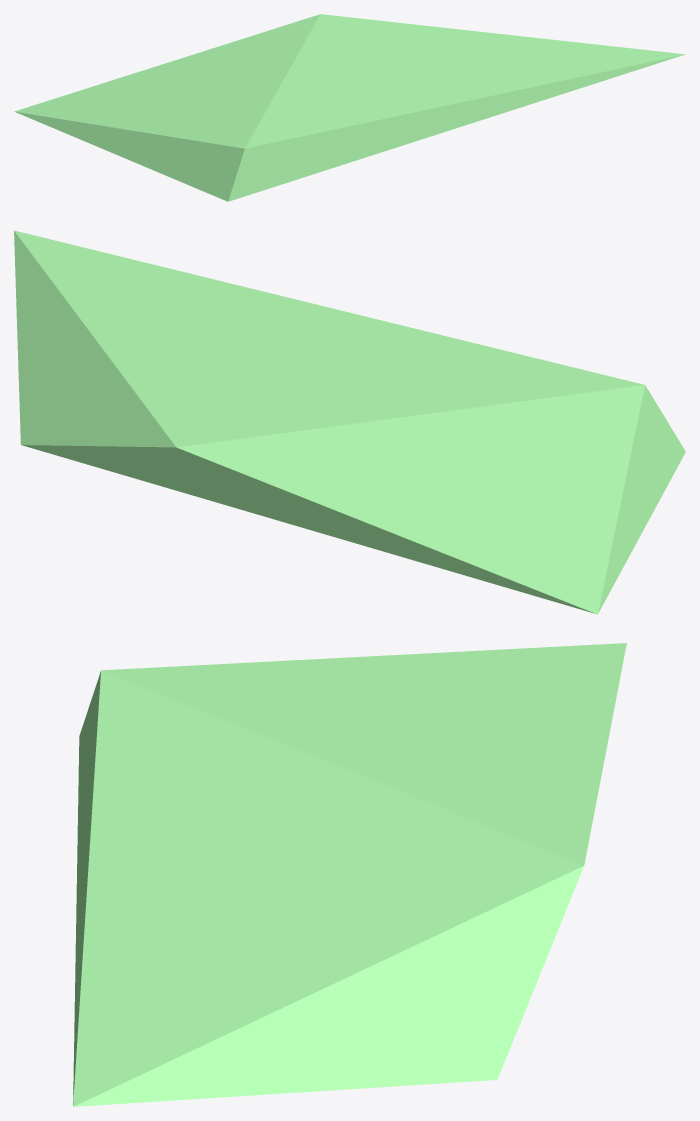
The model's file is linkhou_LR4_R560_link3_respondable_coll_8.dae.
The picture shows the model from 3 angles, top to bottom: view 1: azimuth 30°, elevation 25°; view 2: azimuth 150°, elevation 25°; view 3: azimuth 270°, elevation 25°; orthographic projection. The views are drawn at different scales.
Visible parts, largest first — view 1: Node_00000209DB3AC770; view 2: Node_00000209DB3AC770; view 3: Node_00000209DB3AC770.
Part boxes in pixels (x1,y1,x2,y2): Node_00000209DB3AC770: [14, 14, 685, 201]; Node_00000209DB3AC770: [14, 230, 685, 614]; Node_00000209DB3AC770: [73, 643, 626, 1106].
Bounding box in the file's own units: 0.0688 × 0.00579 × 0.0309.
